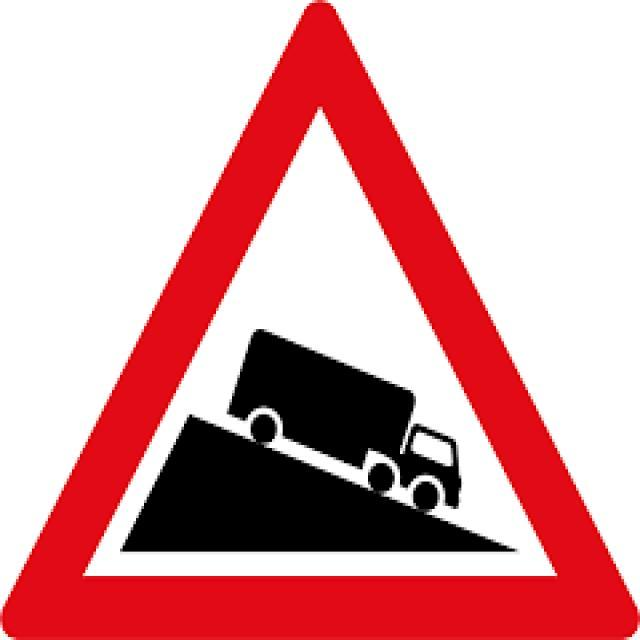steep descent: (20, 15, 611, 622)
